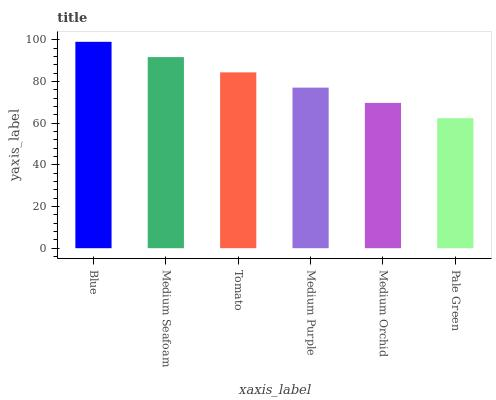axis: (48, 30, 63, 260)
label: (156, 266, 178, 372), (372, 268, 395, 360), (302, 265, 323, 362), (447, 266, 466, 336), (228, 268, 249, 317), (85, 265, 103, 301)
rectangle: (75, 41, 112, 248), (148, 58, 184, 248), (221, 72, 257, 249), (293, 87, 329, 249), (365, 103, 402, 249), (437, 116, 473, 248)
title: (54, 3, 95, 29)
